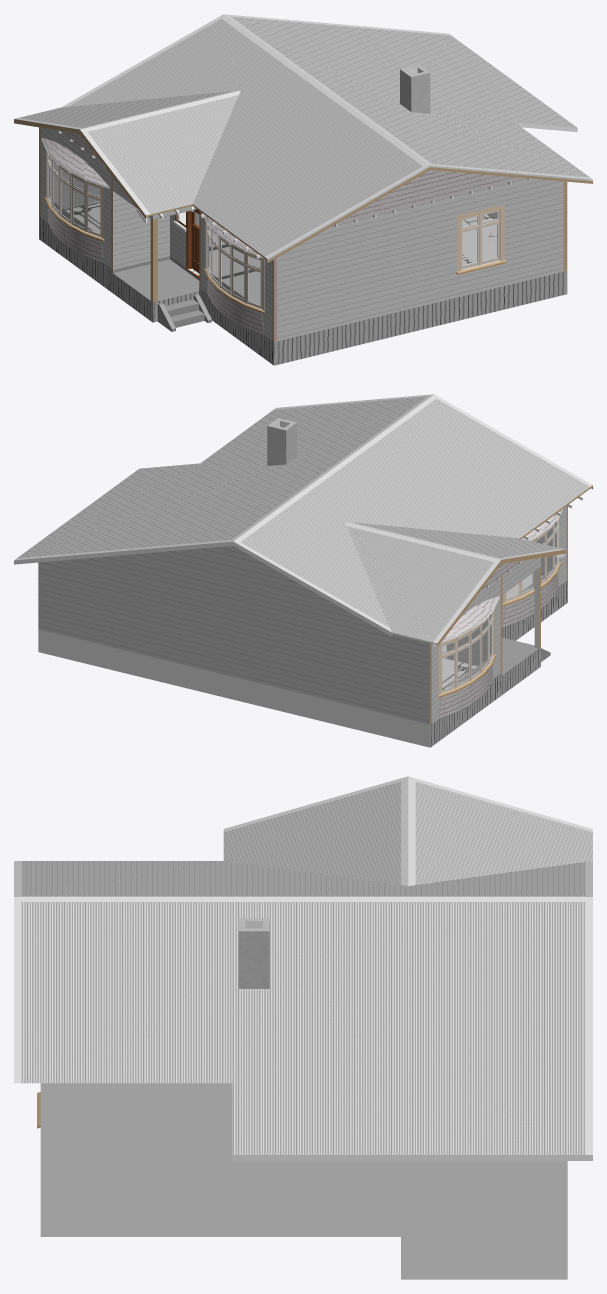
The picture shows the model from 3 angles, top to bottom: view 1: azimuth 30°, elevation 25°; view 2: azimuth 150°, elevation 25°; view 3: azimuth 270°, elevation 25°; orthographic projection. The views are drawn at different scales.
Parts seen in each view (by area): view 1: bung calif provost; view 2: bung calif provost; view 3: bung calif provost.
Part boxes in pixels (x1,y1,x2,y2): bung calif provost: (14,14,592,365); bung calif provost: (14,394,592,747); bung calif provost: (14,776,592,1279).
Bounding box in the file's own units: 14.79 × 6.05 × 12.18.
Materials: 20 (9 with a texture image).
